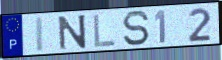1: (154, 9, 167, 45)
2: (186, 6, 213, 44)
I: (34, 16, 46, 53)
L: (93, 12, 118, 49)
N: (57, 13, 88, 51)
S: (121, 10, 151, 47)
